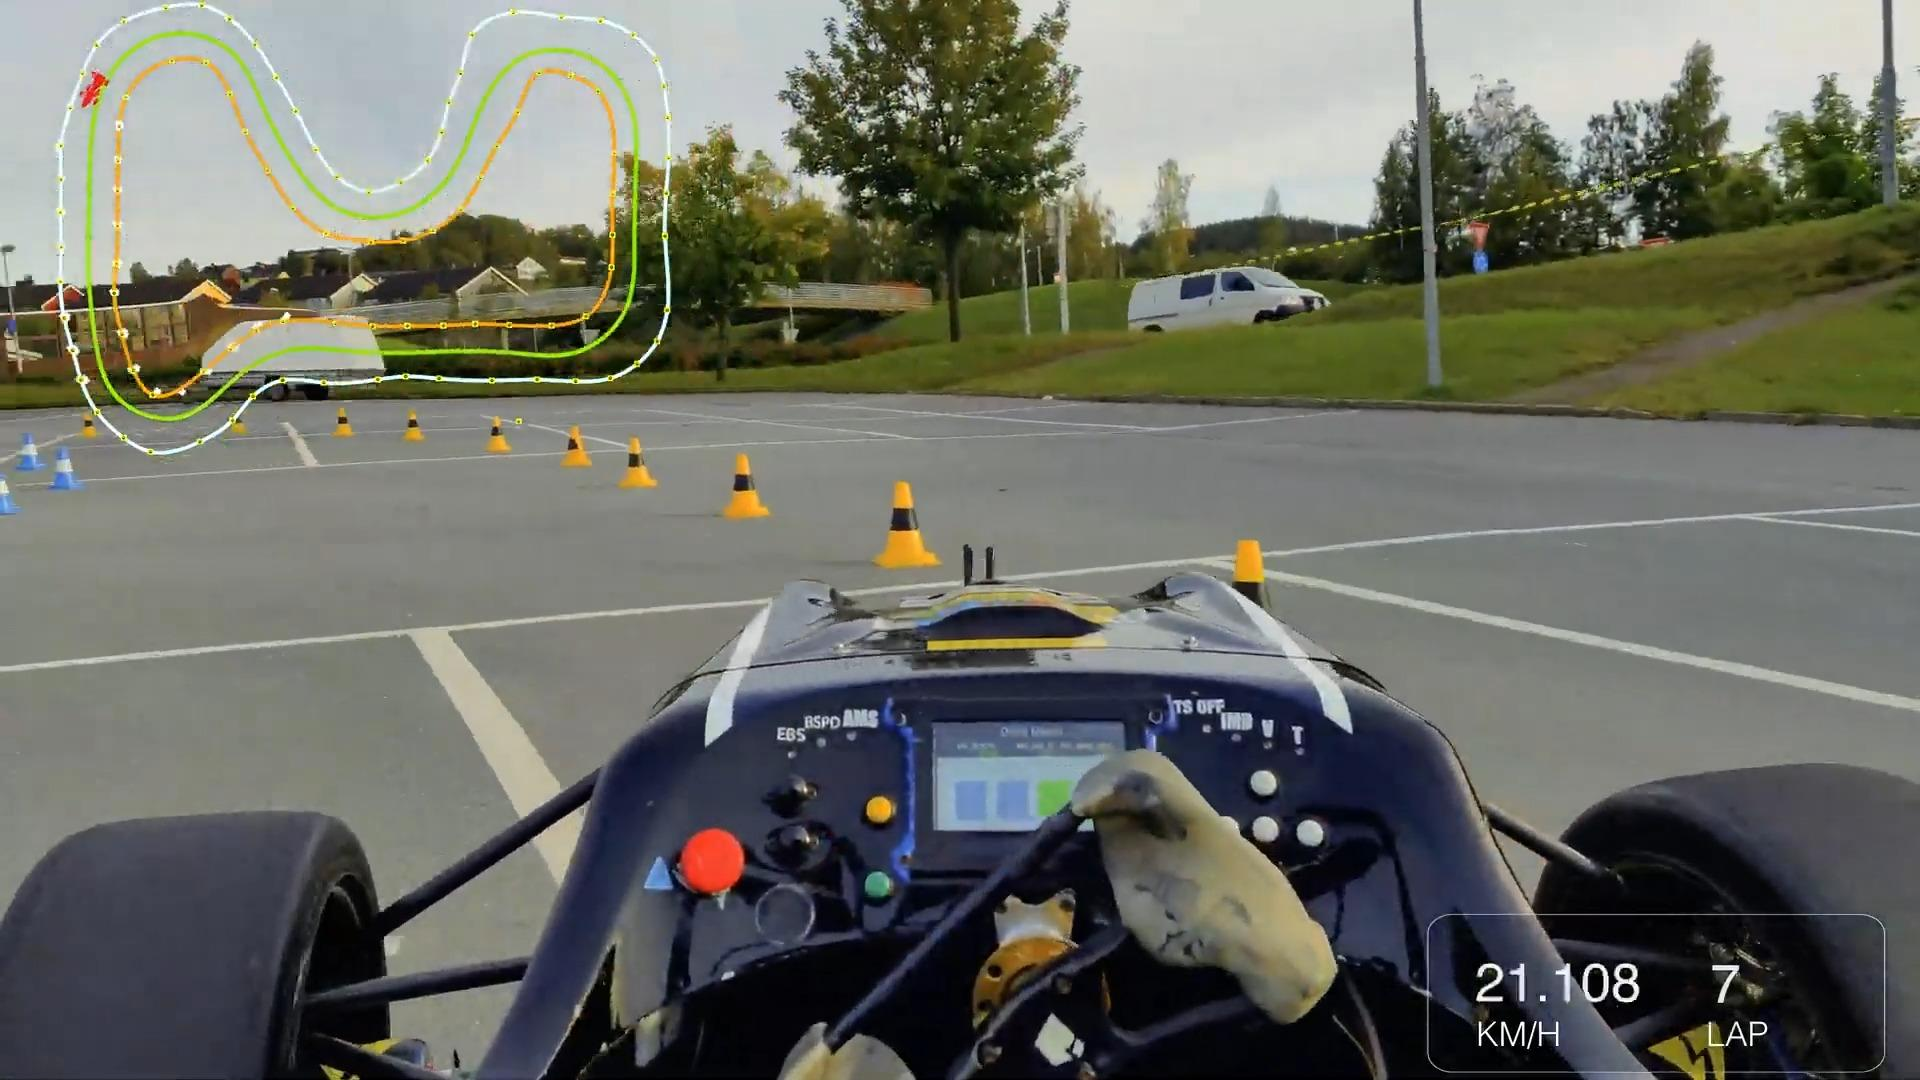blue_cone: (47, 443, 86, 495), (15, 430, 44, 472), (0, 469, 18, 516)
yellow_cone: (1200, 538, 1300, 724), (861, 479, 943, 567), (715, 451, 771, 521), (616, 434, 657, 492), (558, 418, 595, 472), (487, 415, 510, 452), (401, 407, 426, 442), (335, 407, 355, 439), (82, 410, 100, 442), (232, 405, 249, 435)
